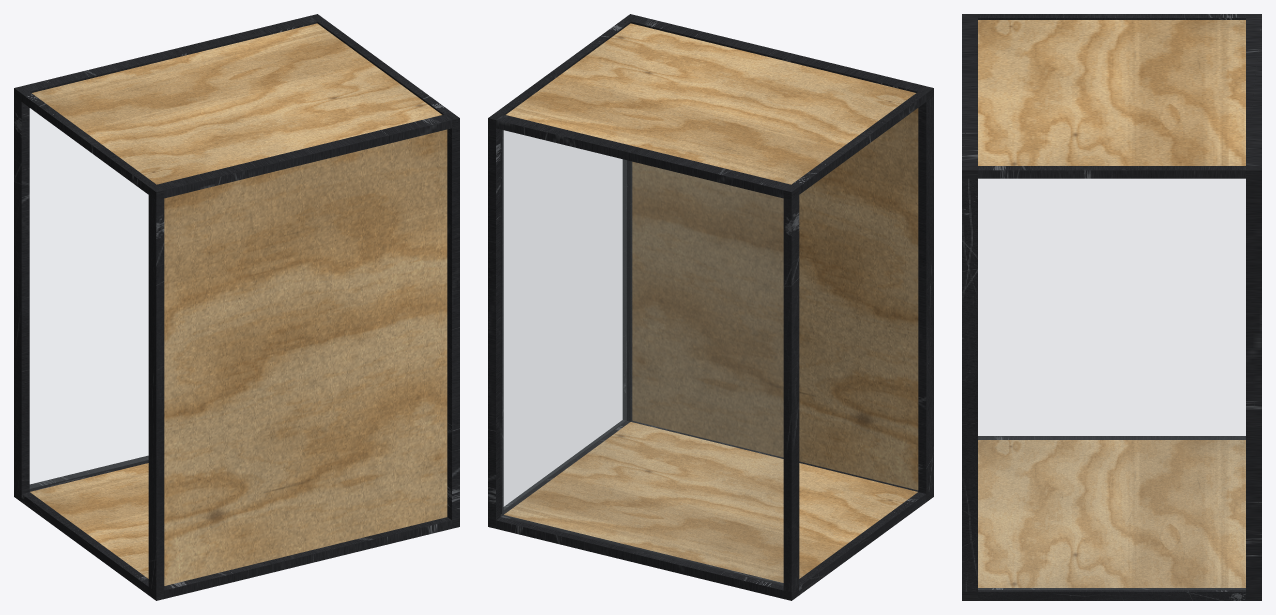
File: SM_Area de Trabalho 2.fbx
The picture shows the model from 3 angles, left to right: view 1: azimuth 30°, elevation 25°; view 2: azimuth 150°, elevation 25°; view 3: azimuth 270°, elevation 25°; orthographic projection. The views are drawn at different scales.
Visible parts, largest first — view 1: SM_Area de Trabalho 2; view 2: SM_Area de Trabalho 2; view 3: SM_Area de Trabalho 2.
Part boxes in pixels (bbox=[...]): SM_Area de Trabalho 2: bbox=[14, 14, 459, 600]; SM_Area de Trabalho 2: bbox=[488, 14, 933, 600]; SM_Area de Trabalho 2: bbox=[962, 14, 1261, 600].
Bounding box in the file's own units: 155 × 200 × 126.
